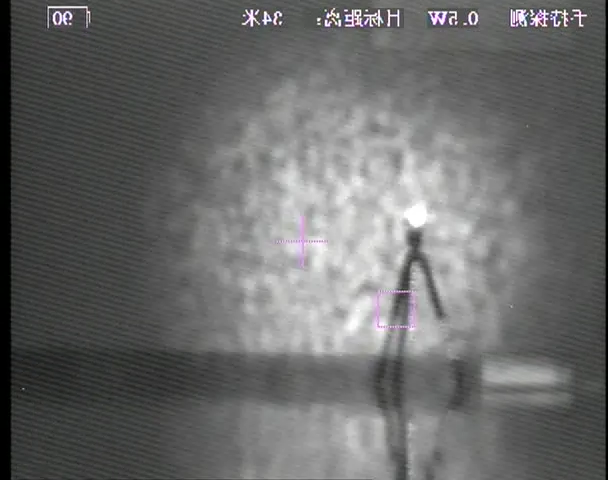my: (405, 200, 430, 228)
